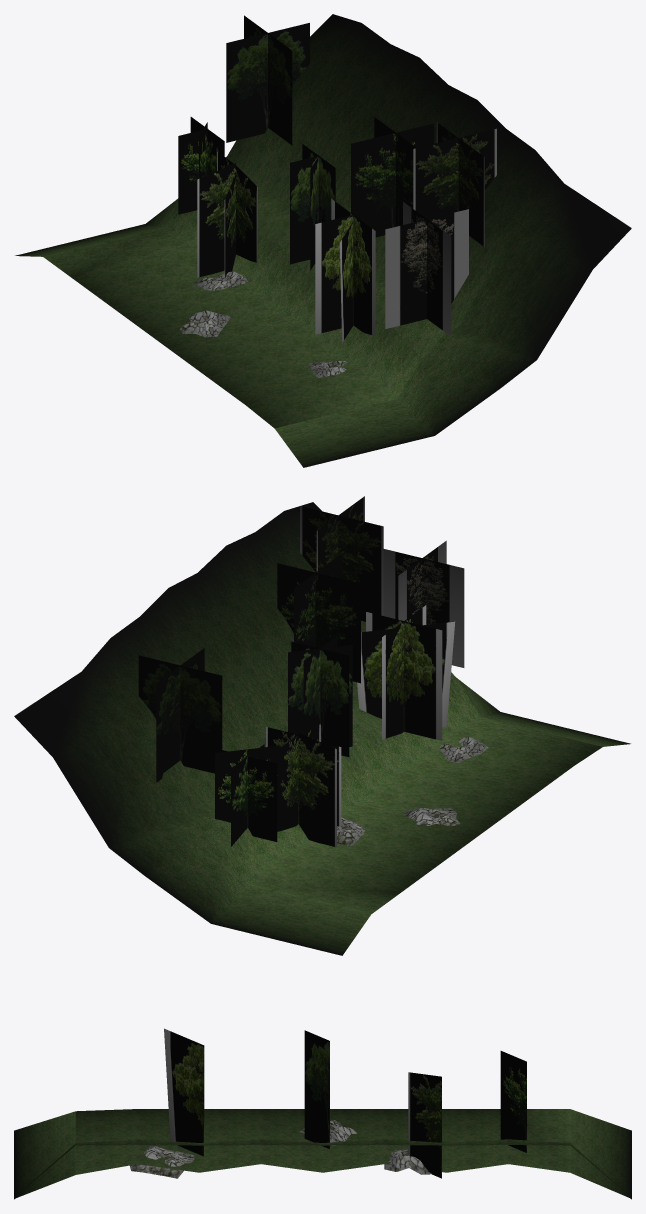
Rendered from KIN_AMB_MNT0_L.glb.
3 renders of one model, top to bottom at view 1: azimuth 30°, elevation 25°; view 2: azimuth 150°, elevation 25°; view 3: azimuth 270°, elevation 25°, orthographic. The views are drawn at different scales.
Parts seen in each view (by area): view 1: AMB1, bone1_5, bone1_0, bone1_7, bone1_6, bone1_2, bone1_3; view 2: AMB1, bone1_5, bone1_0, bone1_2, bone1_3, bone1_6, bone1_7; view 3: AMB1, bone1_5, bone1_2, bone1_3, bone1_0, bone1_6.
Boxes of the visible parts, box(x1,y1,x2,y2) form: AMB1: box(15, 14, 631, 467); bone1_5: box(315, 117, 434, 342); bone1_0: box(178, 15, 309, 214); bone1_7: box(385, 202, 468, 336); bone1_6: box(308, 122, 496, 377); bone1_2: box(193, 151, 257, 290); bone1_3: box(180, 144, 335, 337); AMB1: box(14, 502, 630, 955); bone1_5: box(277, 553, 455, 740); bone1_0: box(138, 648, 280, 846); bone1_2: box(266, 724, 365, 847); bone1_3: box(288, 636, 460, 825); bone1_6: box(300, 496, 488, 763); bone1_7: box(383, 540, 464, 667); AMB1: box(14, 1109, 631, 1199); bone1_5: box(164, 1028, 204, 1156); bone1_2: box(384, 1072, 441, 1178); bone1_3: box(299, 1030, 356, 1149); bone1_0: box(500, 1051, 526, 1152); bone1_6: box(130, 1146, 194, 1178).
Bounding box in the file's own units: 81.85 × 53.49 × 125.
12 materials, 12 textured.
